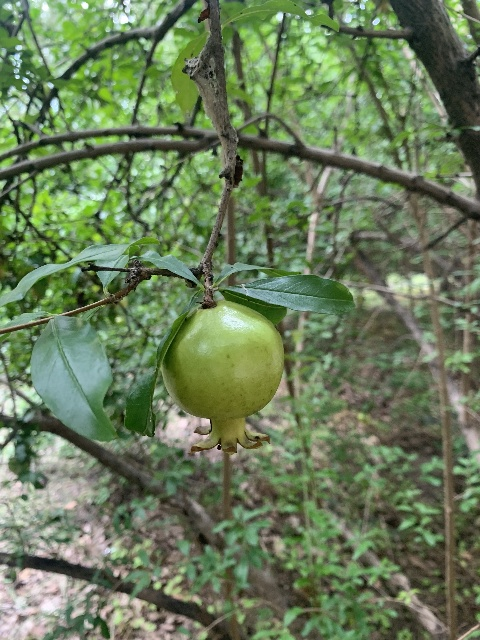mid-growth: (160, 299, 284, 455)
